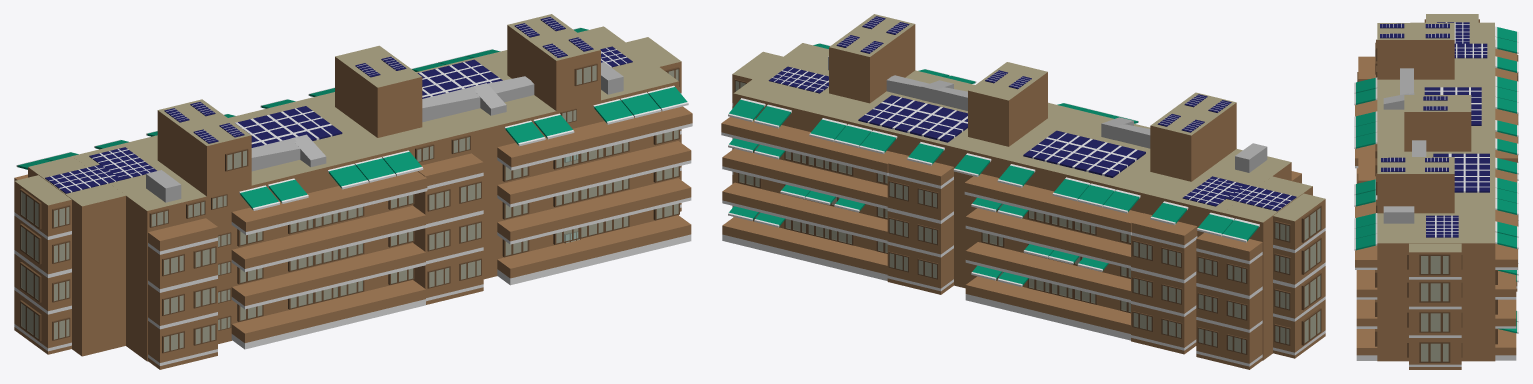
The model's file is bus stop building.fbx.
3 renders of one model, left to right at view 1: azimuth 30°, elevation 25°; view 2: azimuth 150°, elevation 25°; view 3: azimuth 270°, elevation 25°, orthographic. The views are drawn at different scales.
Visible parts, largest first — view 1: pCube1, pCube94, pCube42, pCube2, pCube104, pCube91, pCube15, pCube95, pCube93, pCube134, pCube6, pCube128 (+31 smaller); view 2: pCube1, pCube94, pCube143, pCube81, pCube43, pCube91, pCube15, pCube95, pCube93, pCube73, pCube165, pCube161 (+34 smaller); view 3: pCube94, pCube92, pCube1, pCube15, pCube95, pCube93, pCube211, pCube144, pCube210, pCube111, pCube212, pCube186 (+48 smaller).
Part boxes in pixels (x1,y1,x2,y2): pCube1: (72,92,414,361); pCube94: (398,26,678,279); pCube42: (28,156,125,356); pCube2: (148,218,217,369); pCube104: (413,153,483,304); pCube91: (14,175,71,354); pCube15: (157,99,251,270); pCube95: (507,14,600,170); pCube93: (335,45,422,137); pCube134: (497,215,691,285); pCube6: (231,280,425,349); pCube128: (497,178,691,244); pCube1: (976,102,1291,311); pCube94: (733,43,993,288); pCube143: (887,154,953,294); pCube81: (1131,213,1197,354); pCube43: (1196,232,1262,369); pCube91: (1273,193,1325,358); pCube15: (1150,92,1236,181); pCube95: (829,14,915,103); pCube93: (968,62,1047,146); pCube73: (965,276,1130,340); pCube165: (722,217,887,280); pCube161: (722,182,887,243); pCube94: (1377,140,1495,361); pCube92: (1409,243,1461,369); pCube1: (1377,39,1495,140); pCube15: (1377,23,1454,79); pCube95: (1377,157,1454,213); pCube93: (1404,95,1471,151); pCube211: (1433,153,1489,192); pCube144: (1495,210,1517,269); pCube210: (1424,87,1481,125); pCube111: (1355,202,1377,269); pCube212: (1426,215,1458,237); pCube186: (1419,311,1450,332).
Bounding box in the file's own units: 235 × 72.28 × 67.88.
